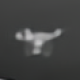plane: (13, 26, 67, 57)
